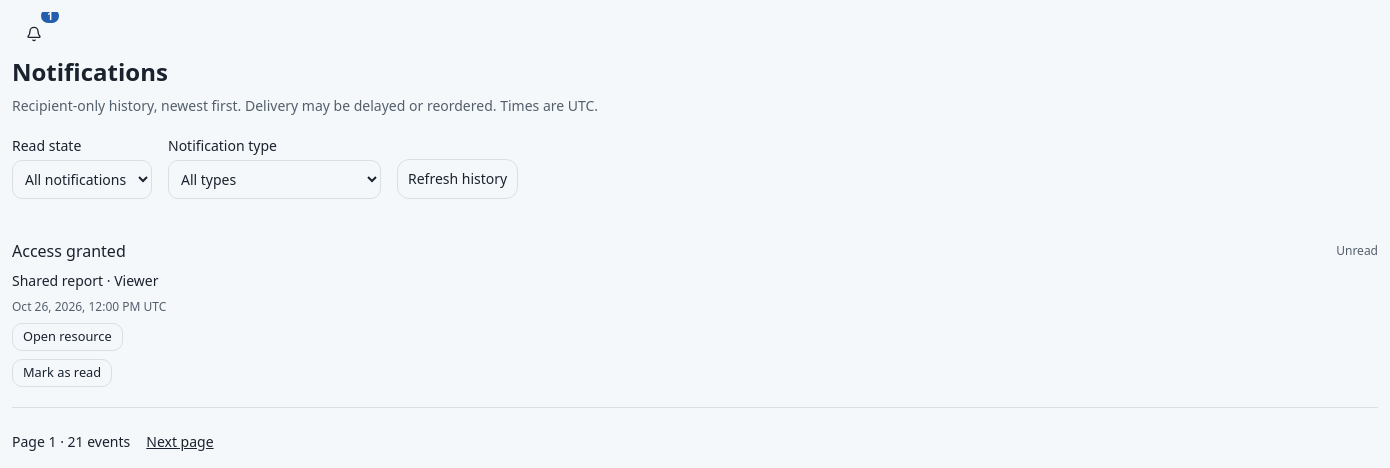
Scenario: updates unread count and the list only after confirmed mark-as-read
Expected: the button named "Notifications, 1 unread" is shown, 12,12 -> 56,56
Click the button "Mark as read" at (62, 373), box 12,359 -> 112,387
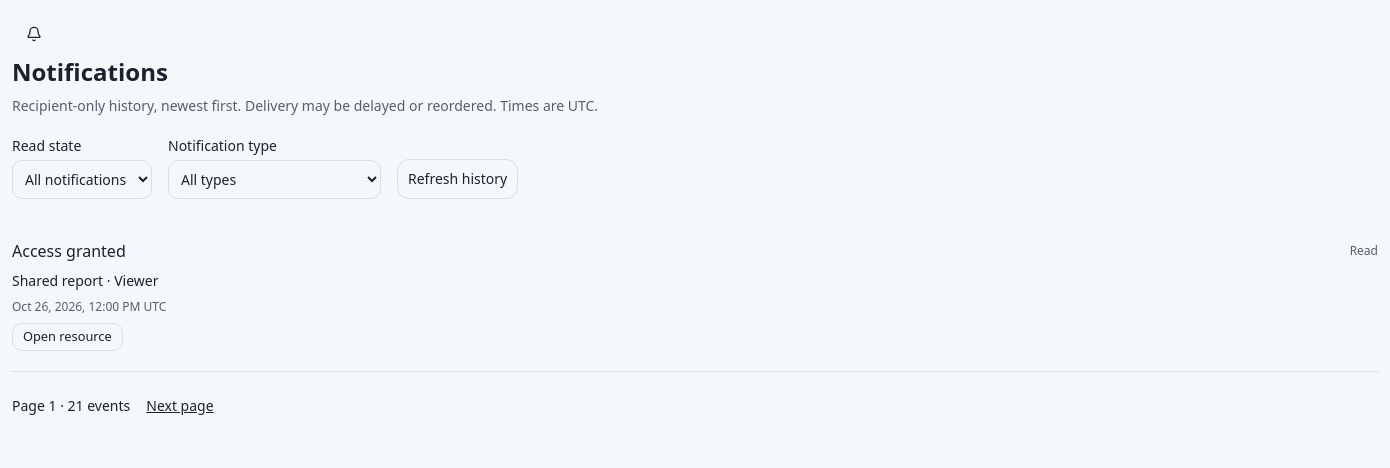
Expected: the text "Read" is shown, 1350,243 -> 1378,259
Result: the button named "Notifications, 0 unread" is shown at 12,12 -> 56,56
